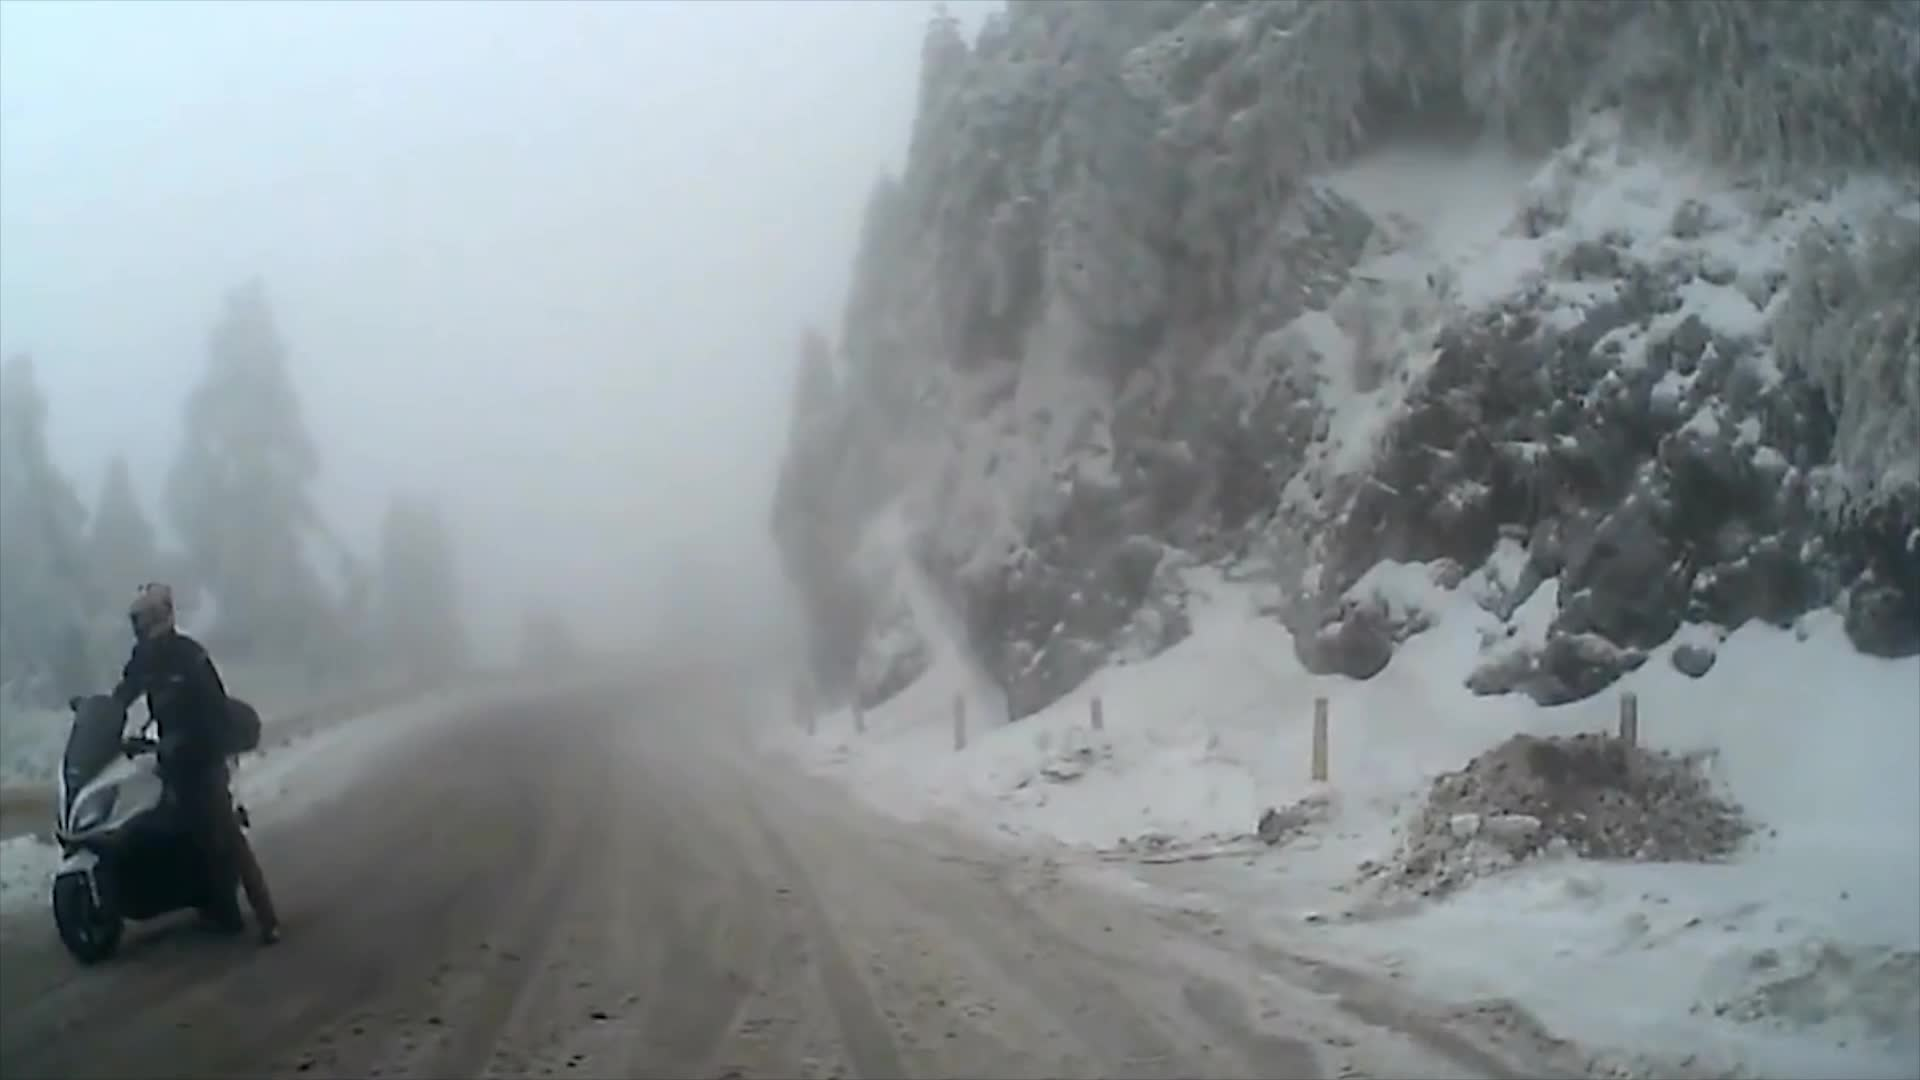pedestrian: (87, 568, 286, 942)
